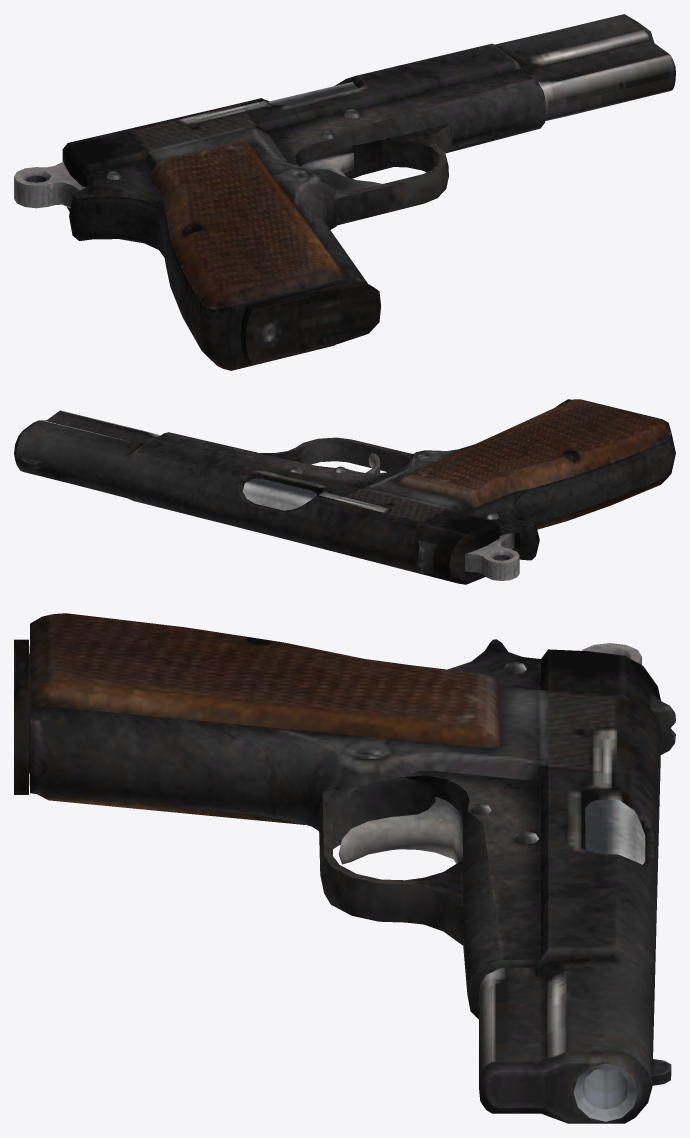
The picture shows the model from 3 angles, top to bottom: view 1: azimuth 30°, elevation 25°; view 2: azimuth 150°, elevation 25°; view 3: azimuth 270°, elevation 25°; orthographic projection. The views are drawn at different scales.
Parts seen in each view (by area): view 1: Ninemm_AnimObject:0, nmBar:0, nmClip:0, nmHammer:0, nmTrigger:0; view 2: Ninemm_AnimObject:0, nmBar:0, nmHammer:0; view 3: Ninemm_AnimObject:0, nmBar:0, nmTrigger:0, nmClip:0.
Boxes of the visible parts, box(x1,y1,x2,y2) form: Ninemm_AnimObject:0: box(69, 68, 546, 370); nmBar:0: box(62, 14, 675, 211); nmClip:0: box(240, 281, 380, 364); nmHammer:0: box(14, 162, 85, 208); nmTrigger:0: box(301, 153, 381, 189); Ninemm_AnimObject:0: box(157, 399, 675, 560); nmBar:0: box(14, 410, 499, 584); nmHammer:0: box(465, 533, 519, 580); Ninemm_AnimObject:0: box(30, 613, 645, 1121); nmBar:0: box(479, 649, 675, 1123); nmTrigger:0: box(338, 796, 462, 864); nmClip:0: box(14, 639, 29, 794).
Bounding box in the file's own units: 1.98 × 0.2457 × 1.27.
7 materials, 7 textured.
